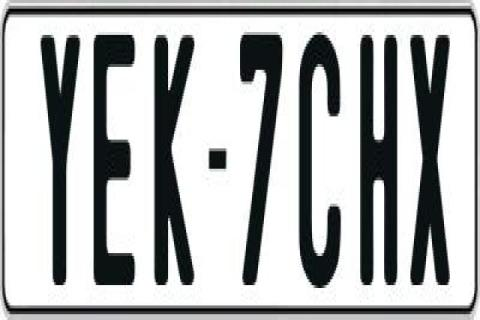0: (238, 32, 284, 288)
C: (298, 29, 348, 282)
E: (94, 27, 138, 286)
H: (358, 35, 396, 291)
K: (152, 26, 196, 294)
X: (408, 29, 454, 285)
Y: (38, 32, 82, 296)
